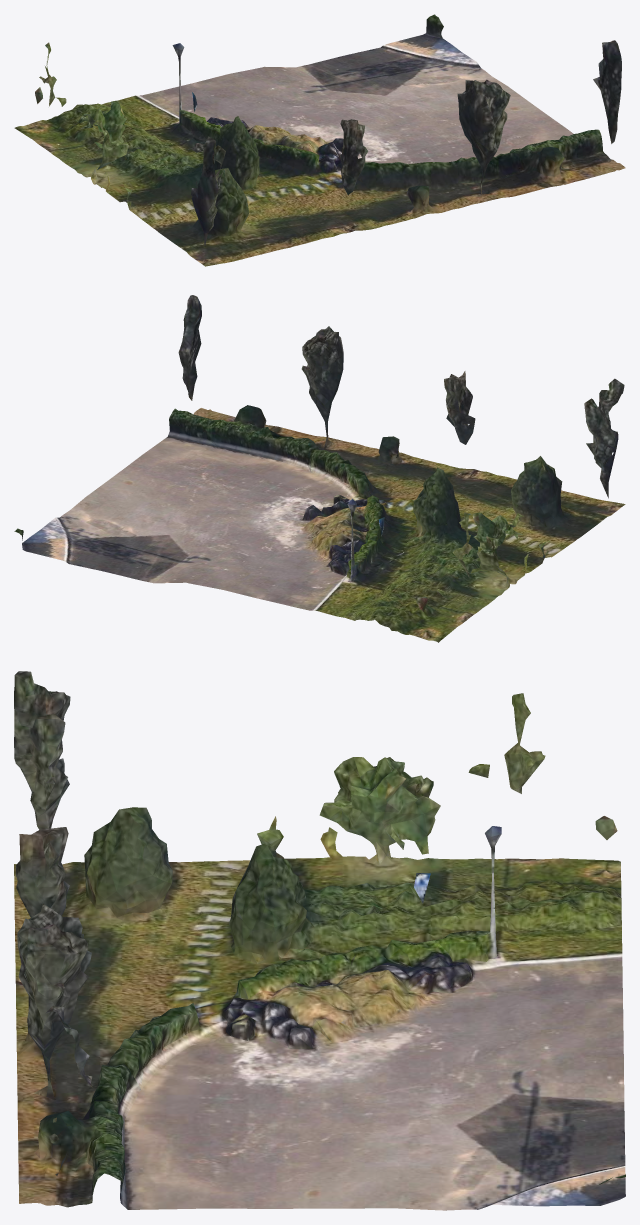
Rendered from Tile_+006_+007_L21_000320t3.glb.
The picture shows the model from 3 angles, top to bottom: view 1: azimuth 30°, elevation 25°; view 2: azimuth 150°, elevation 25°; view 3: azimuth 270°, elevation 25°; orthographic projection. The views are drawn at different scales.
Parts seen in each view (by area): view 1: rtc; view 2: rtc; view 3: rtc.
Boxes of the visible parts, x1,y1,x2,y2 form: rtc: (14,14,625,266); rtc: (14,295,625,642); rtc: (14,671,625,1210).
Size of the model in its own units: 17.85 by 5.41 by 13.88.
1 material, 1 textured.
